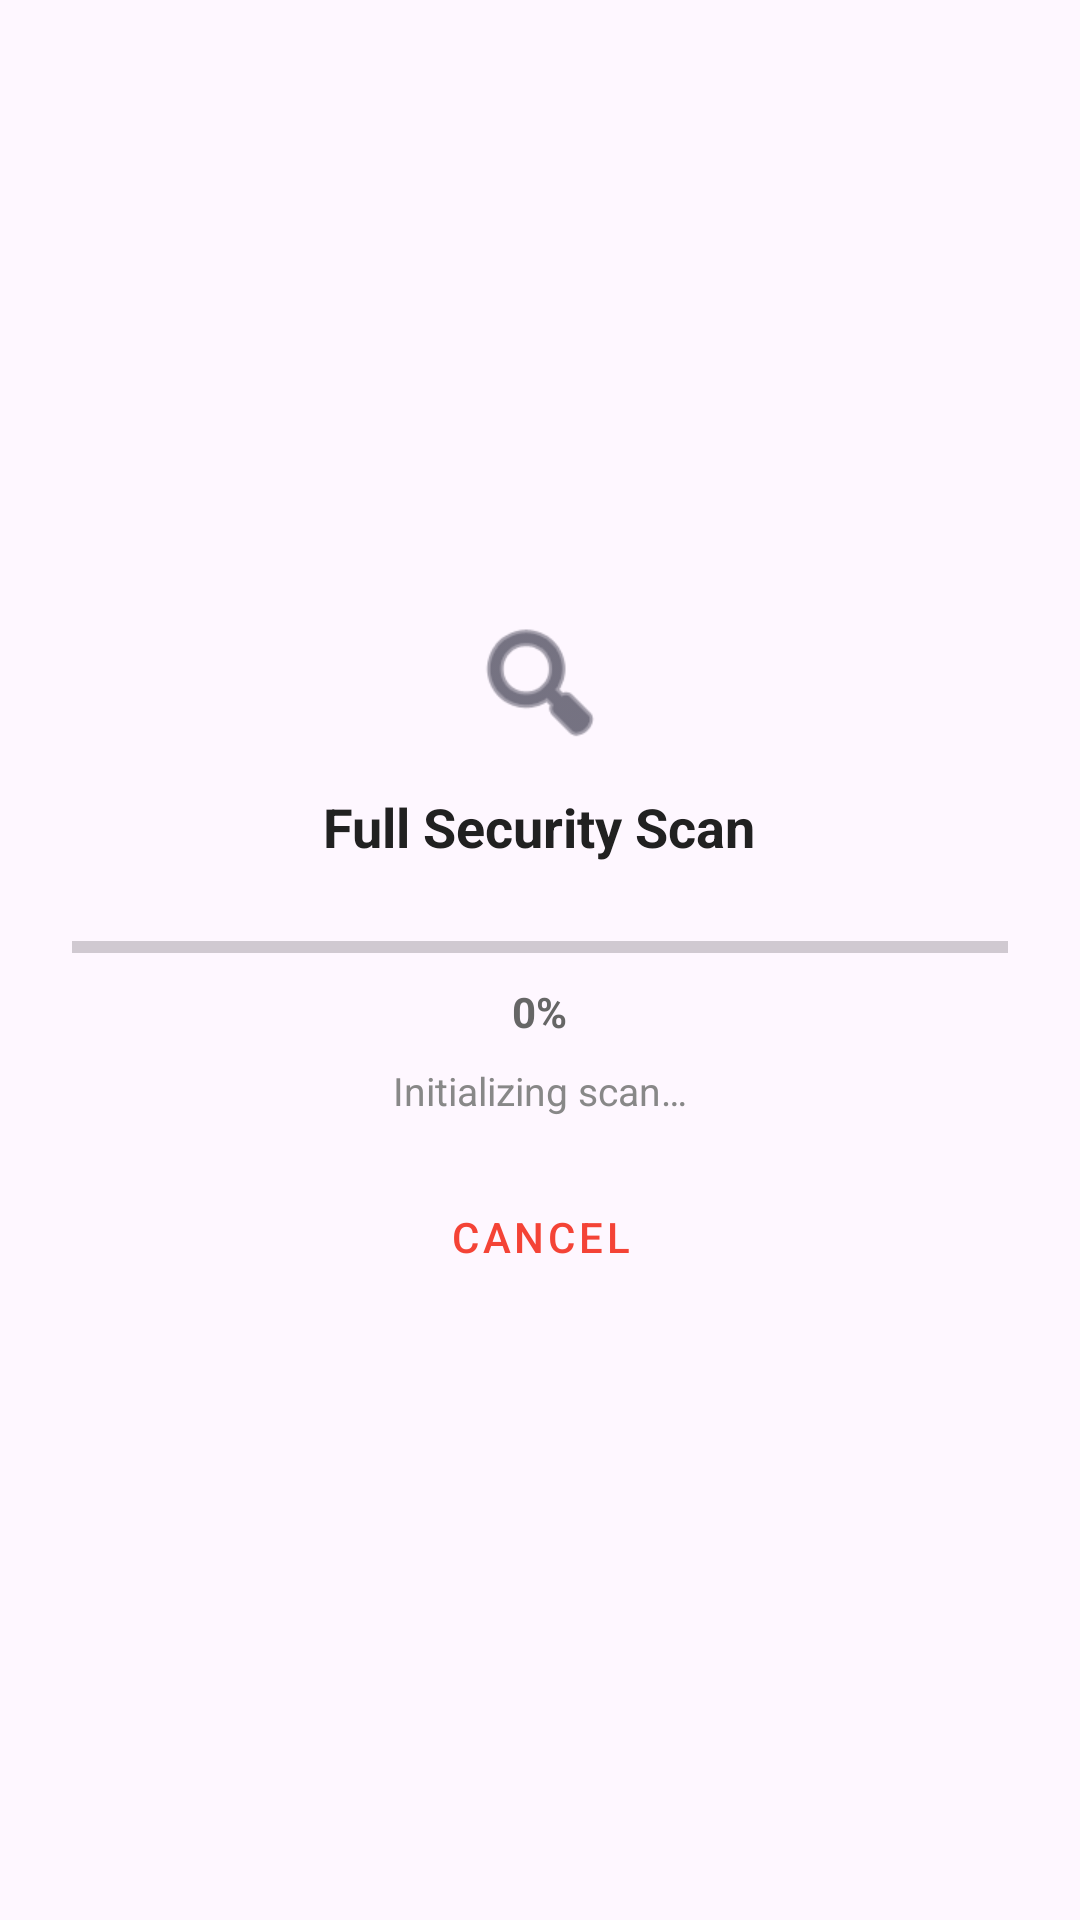

Icons on this 1080x1920 Android screen, each with the point to tap as (x,y):
Start Scan: (540,682)
